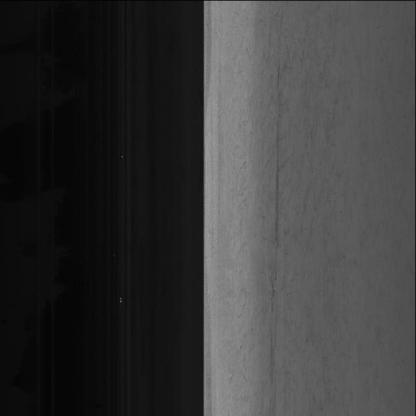silk_spot: (262, 89, 308, 307)
